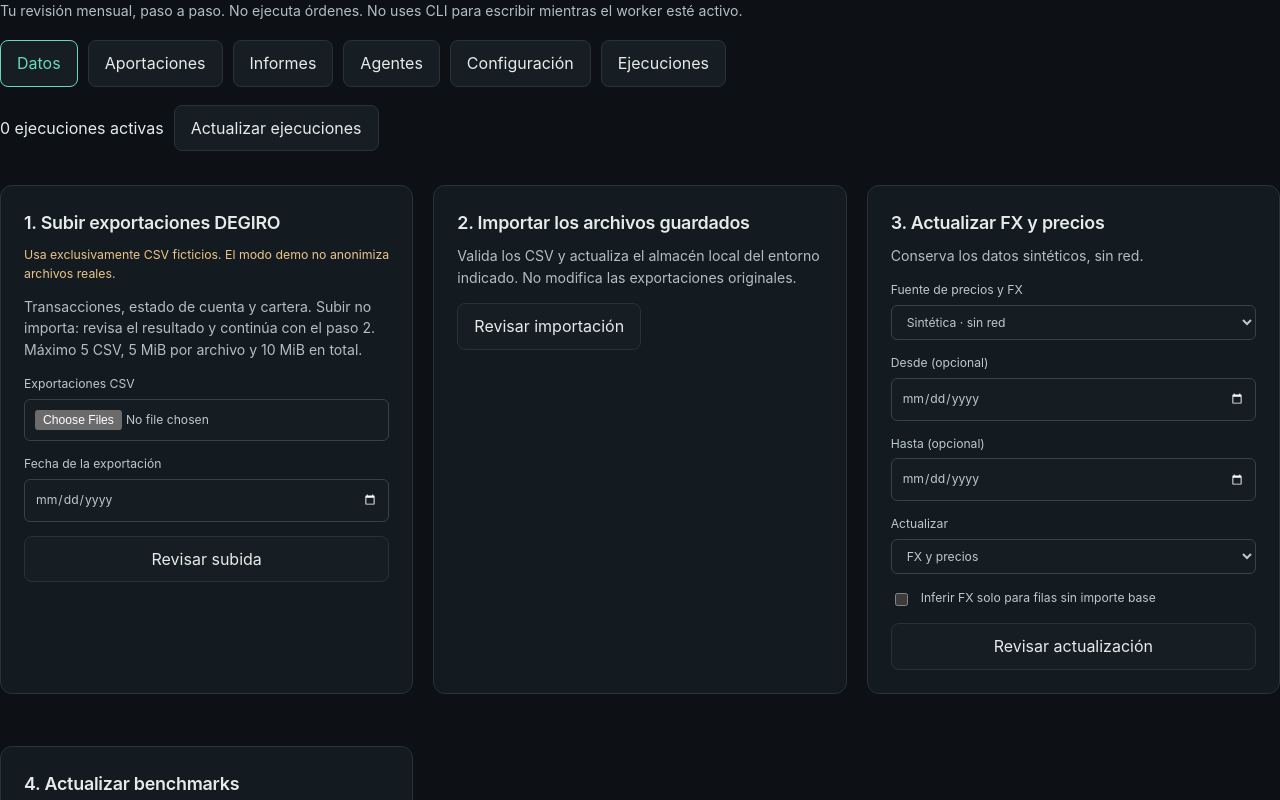
Test: operational safety › has no external provider choices in demo and requires explicit selection in real
This screenshot has width=1280, height=800.
Click the button "Agentes".
click(392, 63)  # box [343,40,440,87]
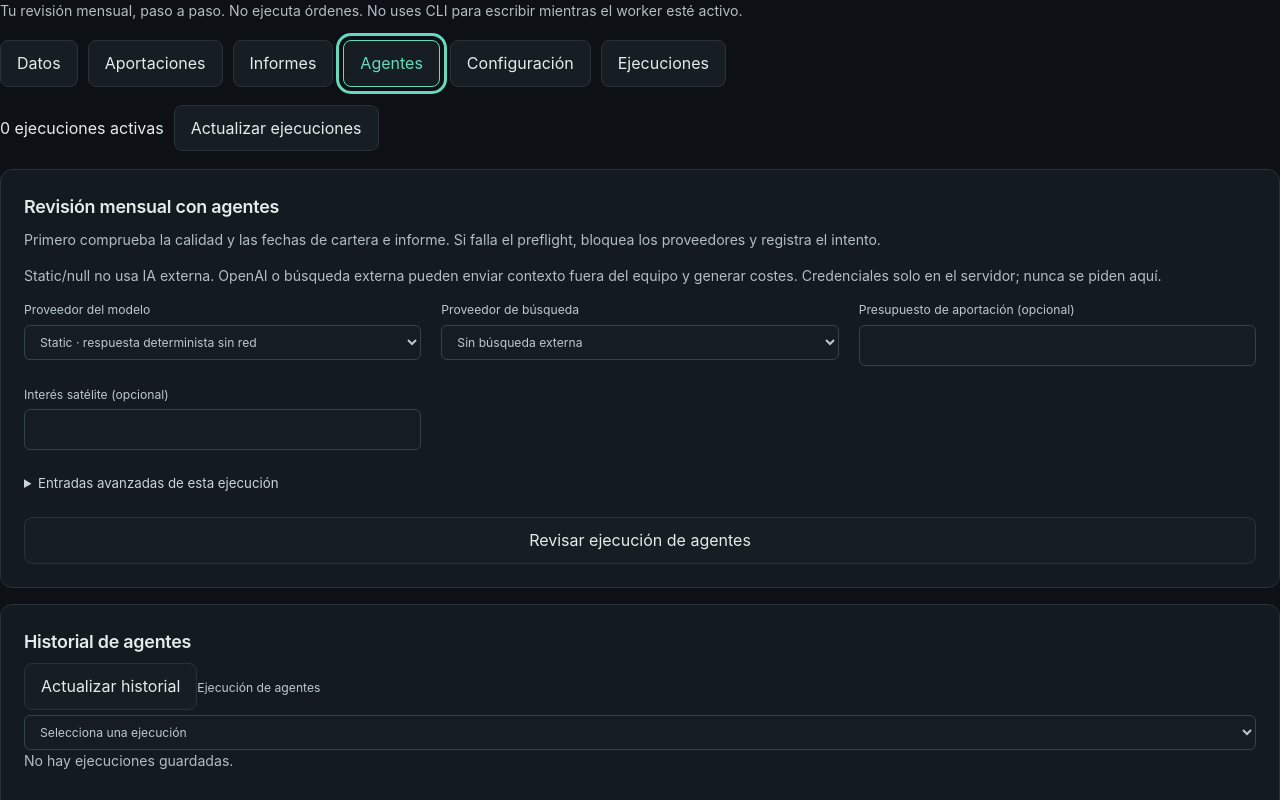
Result: the dropdown labelled "Proveedor del modelo" shows "Static · respuesta determinista sin red" at [24,325,421,360]
Result: the dropdown labelled "Proveedor de búsqueda" shows "Sin búsqueda externa" at [441,325,839,360]
